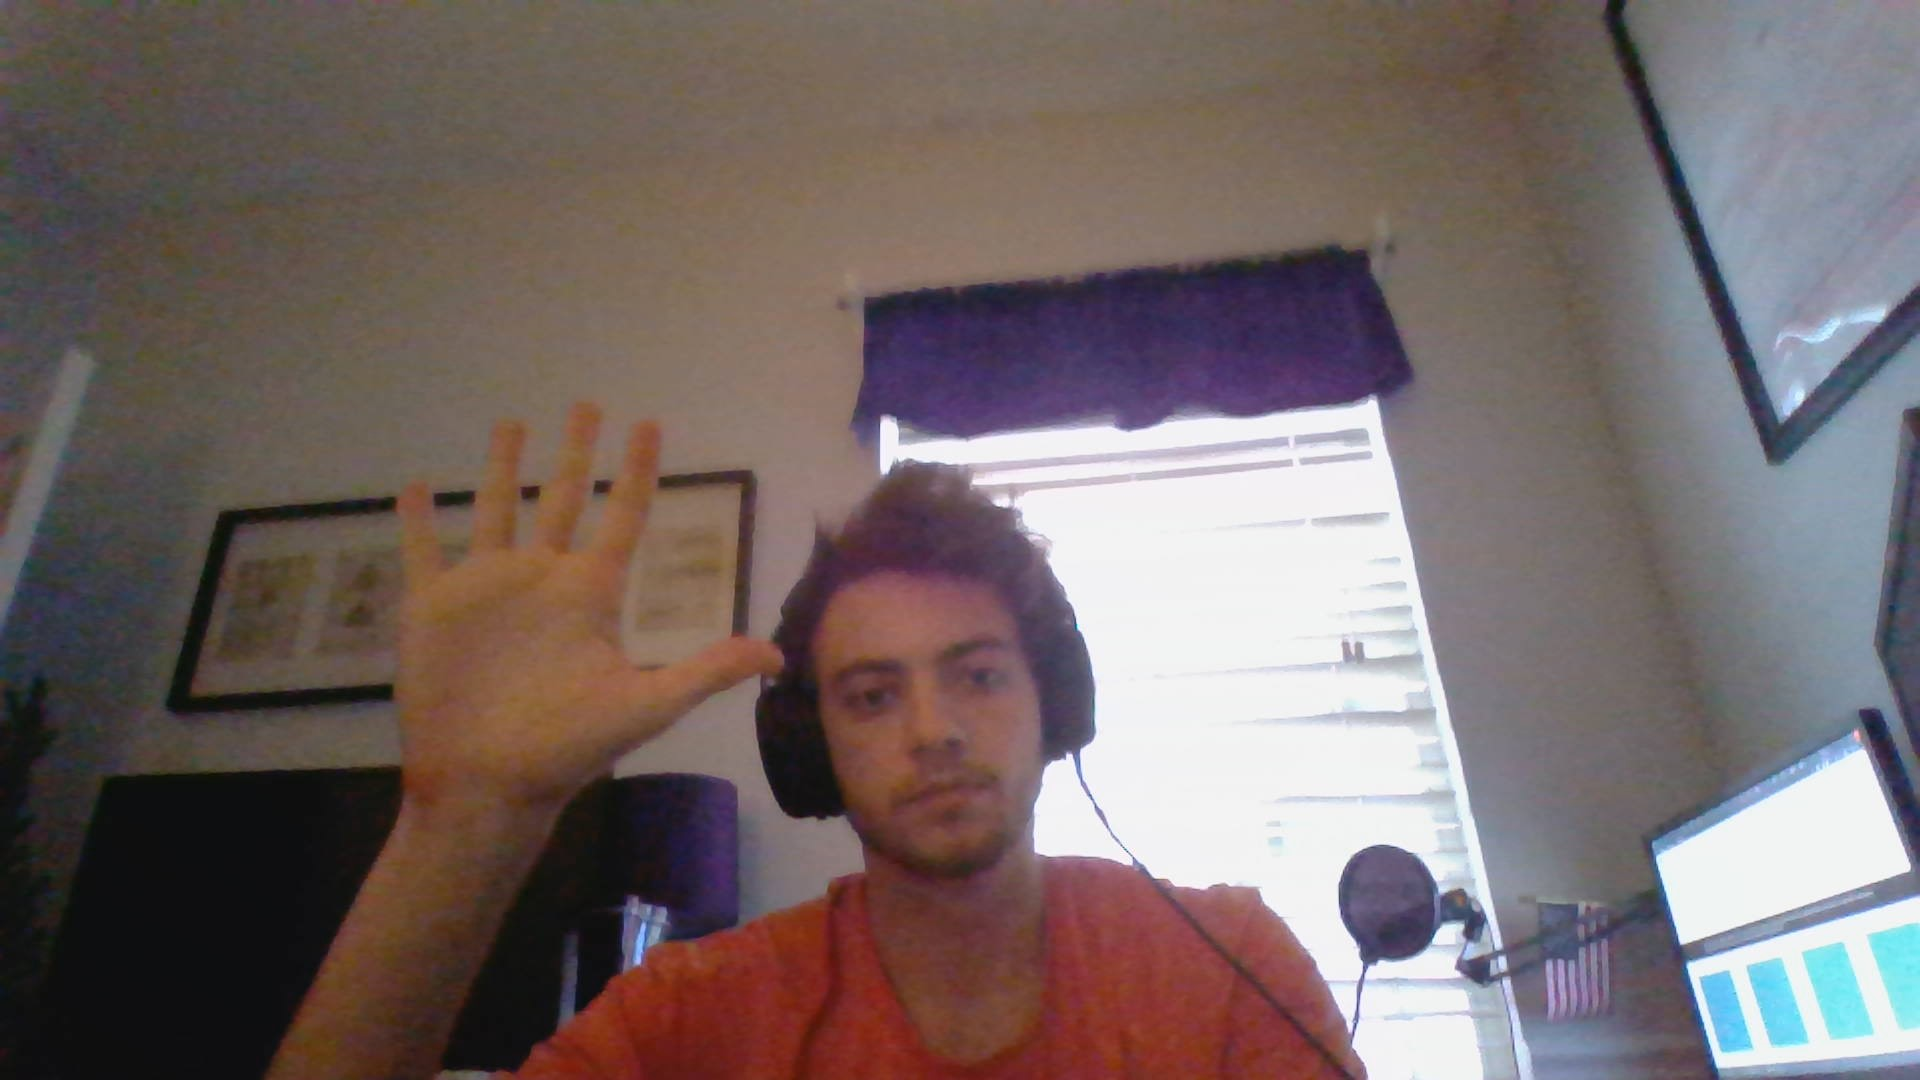Right Palm Up: (377, 398, 785, 808)
